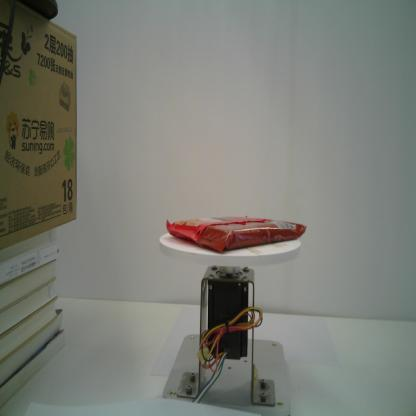Dessert: (166, 216, 307, 253)
